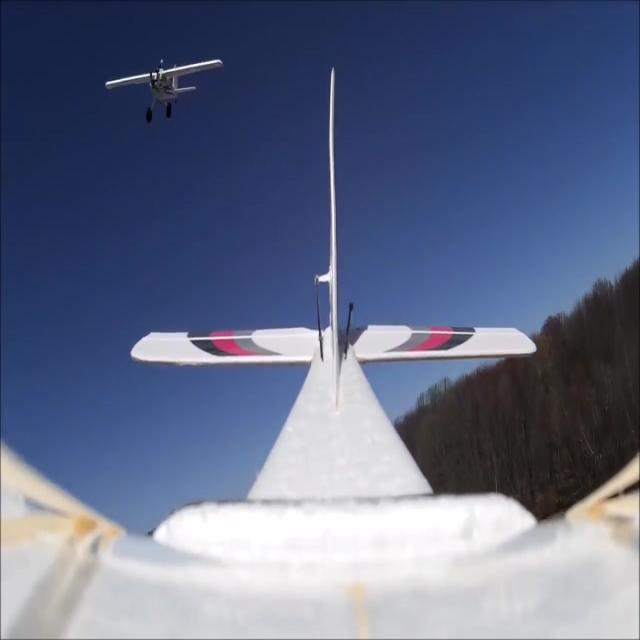iha: (136, 25, 193, 27)
